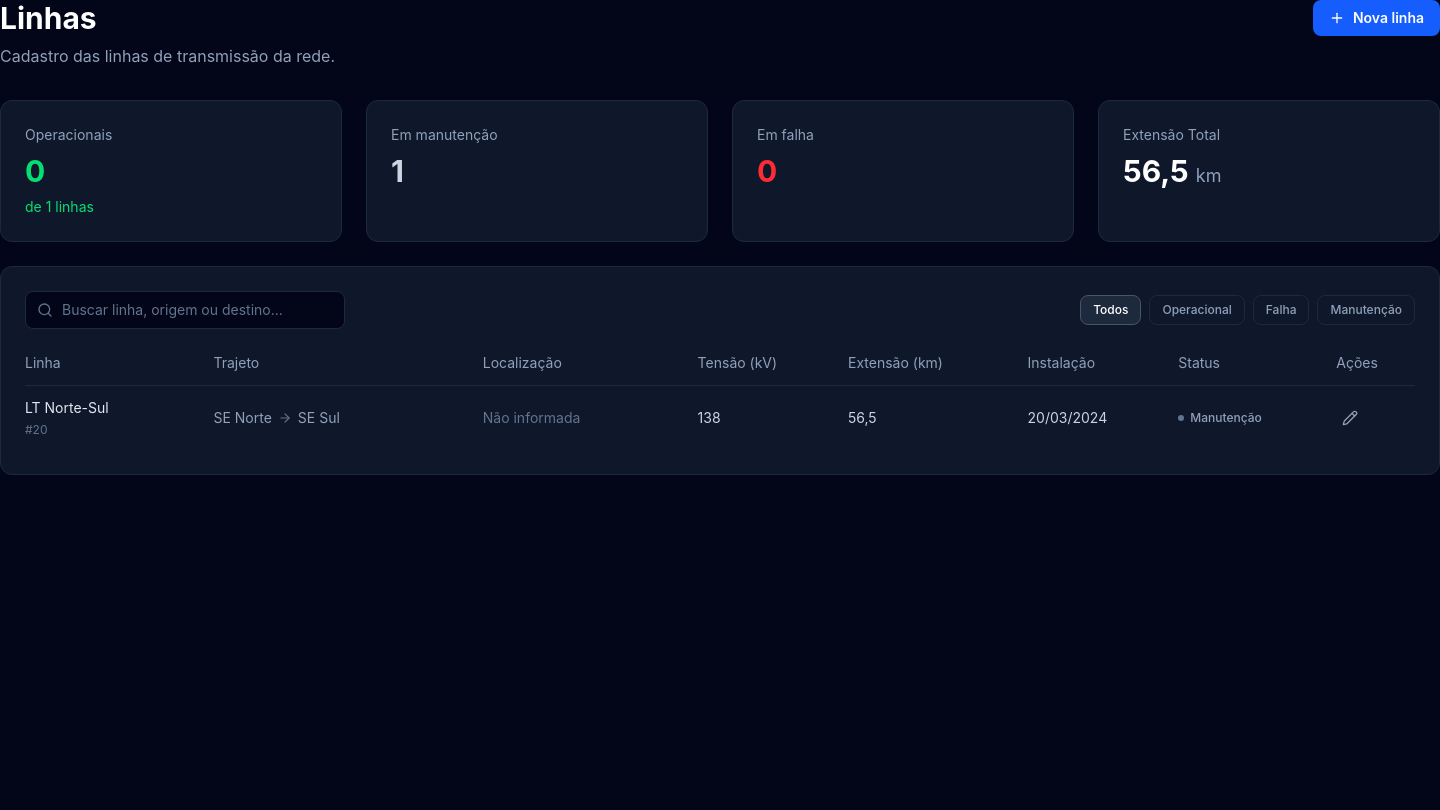
Test: edicao › preenche coordenadas nulas como vazias e preserva o status
Click the button named "Editar LT Norte-Sul" at (1350, 418), box x1=1336 y1=404 x2=1364 y2=432
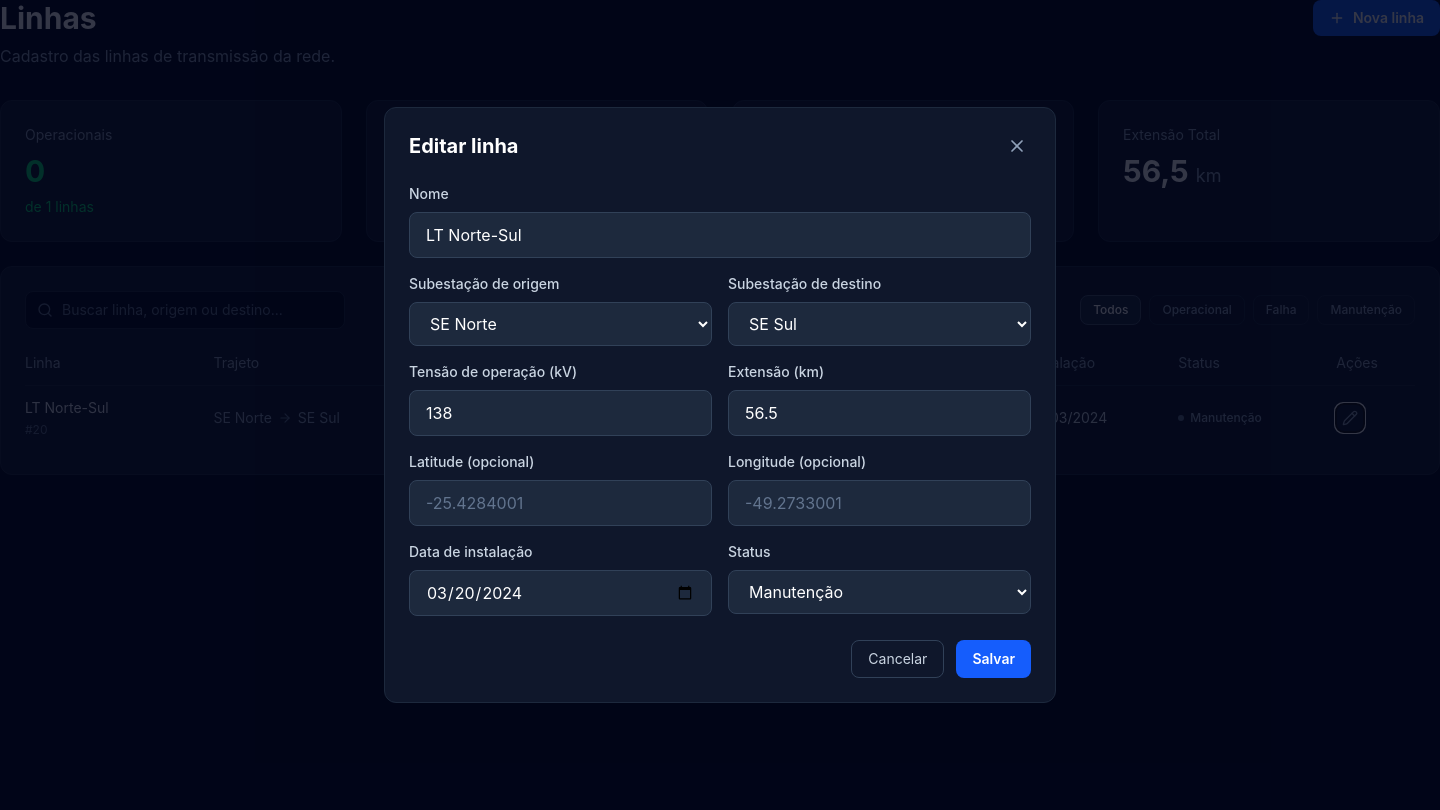
Expected: the field labelled "Latitude (opcional)" is empty, x1=409 y1=480 x2=712 y2=526
Replace the text in the field labelled "Nome" with "LT Renomeada" at (720, 235), box x1=409 y1=212 x2=1031 y2=258
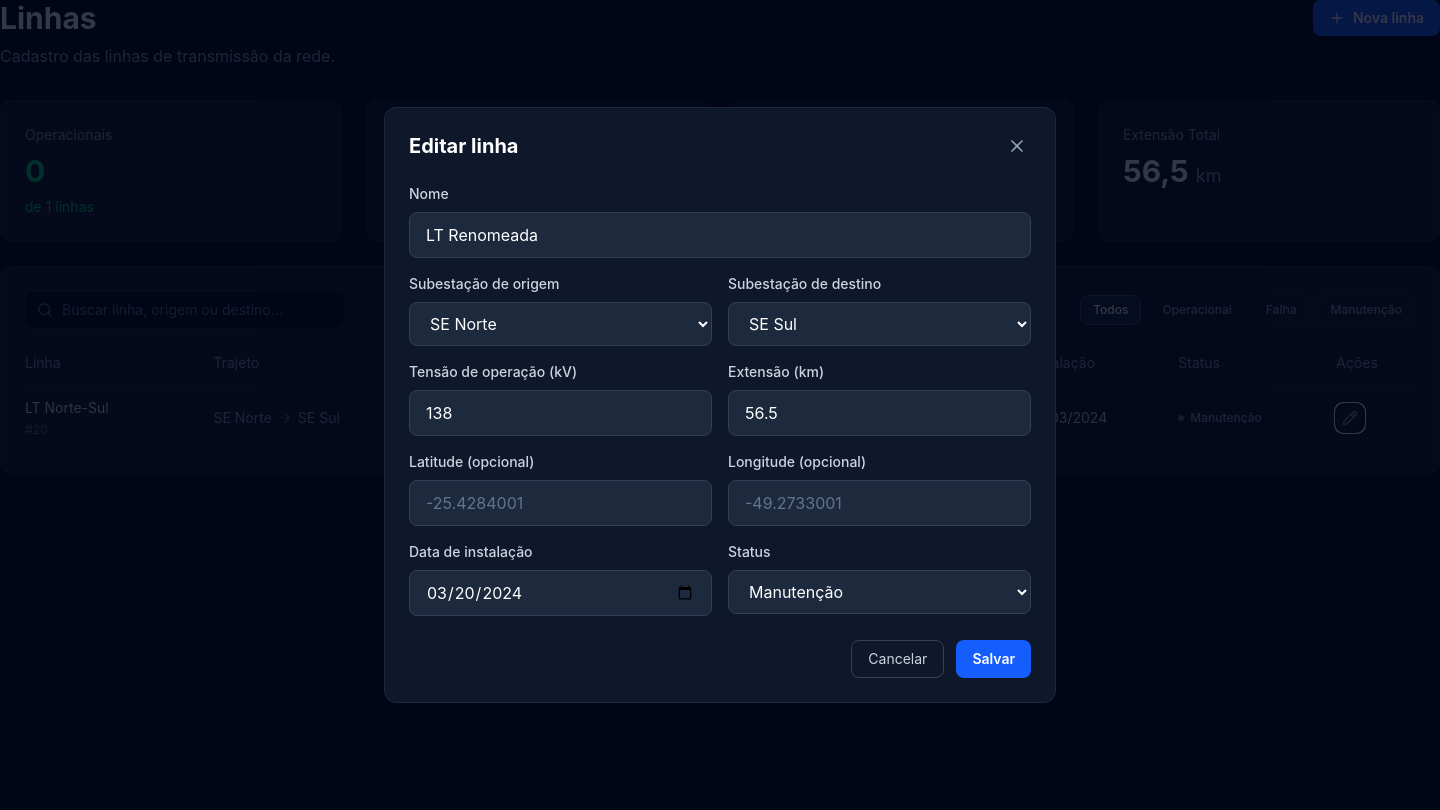
Click the button "Salvar" at (994, 659), box x1=956 y1=640 x2=1031 y2=678
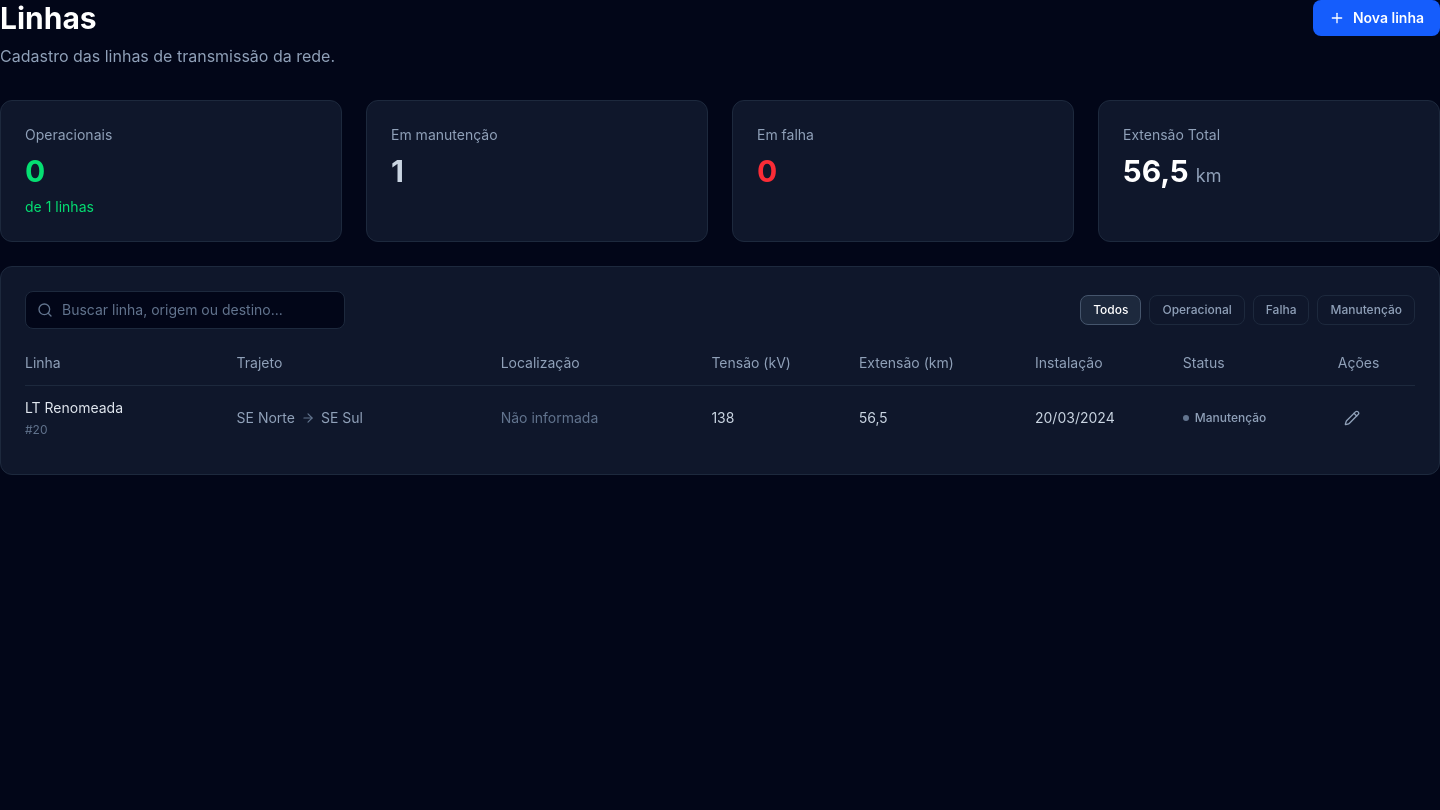
Expected: the text "LT Renomeada" is shown, x1=25 y1=399 x2=123 y2=416
